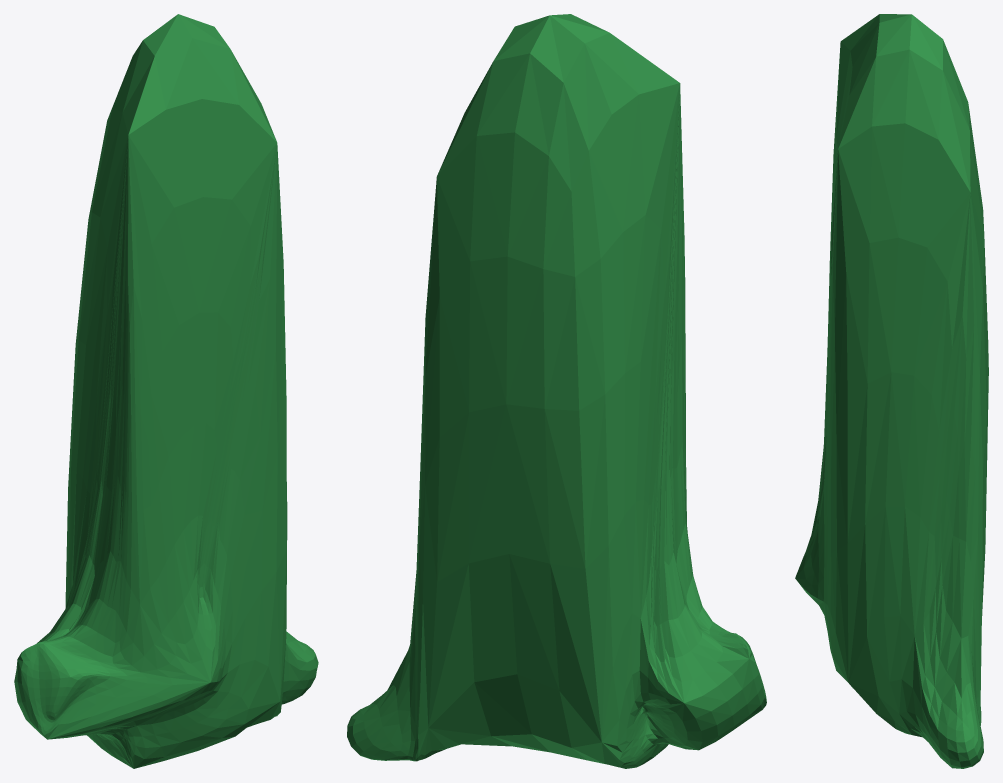
The picture shows the model from 3 angles, left to right: view 1: azimuth 30°, elevation 25°; view 2: azimuth 150°, elevation 25°; view 3: azimuth 270°, elevation 25°; orthographic projection. The views are drawn at different scales.
Parts seen in each view (by area): view 1: 866_Cube.3500; view 2: 866_Cube.3500; view 3: 866_Cube.3500.
Part boxes in pixels (x1,y1,x2,y2): 866_Cube.3500: (14, 14, 318, 768); 866_Cube.3500: (347, 14, 766, 768); 866_Cube.3500: (795, 14, 988, 768).
Size of the model in its own units: 5.66 by 11.48 by 2.93.
